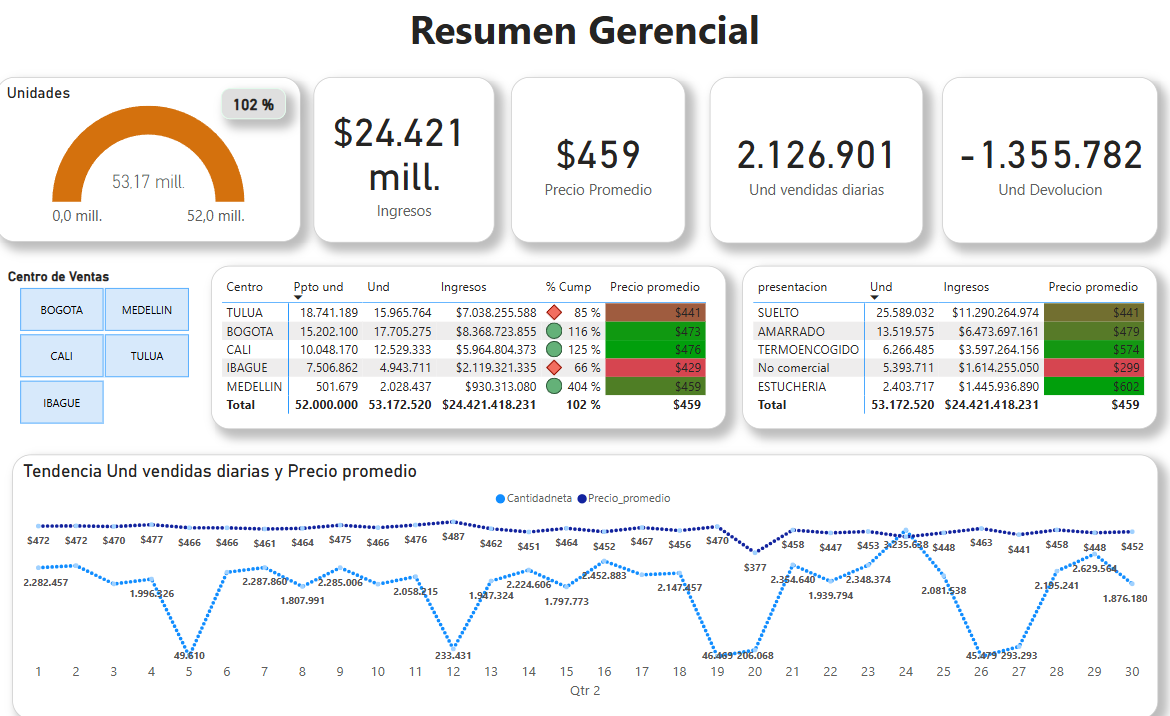

This screenshot's page, from the dashboard's own definition file:
{"tool":"powerbi","page":{"name":"Resumen","canvas":[1280,800],"ordinal":0},"visuals":[{"type":"gauge","title":"Unidades","fields":{"Y":["flash_bi_limpio (2).Cantidadneta"]},"box":[-0.4,86.9,331.1,179.2],"z":0},{"type":"card","fields":{"Values":["flash_bi_limpio (2).%cump_naciona"]},"box":[244.6,99.2,70.7,34],"z":1000},{"type":"card","fields":{"Values":["Sum(flash_bi_limpio (2).facturado_real)"]},"box":[344.9,86.9,196.9,179.8],"z":2000},{"type":"card","fields":{"Values":["flash_bi_limpio (2).Precio_promedio"]},"box":[560.1,86.9,189.5,179.8],"z":3000},{"type":"card","fields":{"Values":["flash_bi_limpio (2).und_prom_diario"]},"box":[776.1,86.9,232.1,180.9],"z":4000},{"type":"card","fields":{"Values":["flash_bi_limpio (2).Cantidadneta"]},"box":[1028,87.2,234.8,181],"z":5000},{"type":"slicer","fields":{"Values":["flash_bi_limpio (2).centro"]},"box":[-0.4,290.2,233.6,179.8],"z":6000},{"type":"pivotTable","fields":{"Values":["Sum(PPTO_DISTRITO.ppto und)","flash_bi_limpio (2).Cantidadneta","Sum(flash_bi_limpio (2).facturado_real)","flash_bi_limpio (2).%cump_naciona","flash_bi_limpio (2).Precio_promedio"],"Rows":["PPTO_DISTRITO.centro"]},"box":[233.7,292.1,559.8,178],"z":7000},{"type":"lineChart","title":"Tendencia Und vendidas diarias y Precio promedio","fields":{"Y":["flash_bi_limpio (2).Cantidadneta"],"Y2":["flash_bi_limpio (2).Precio_promedio"],"Category":["flash_bi_limpio (2).fecha_de_factura.Variación.Jerarquía de fechas.Trimestre","flash_bi_limpio (2).fecha_de_factura.Variación.Jerarquía de fechas.Día"]},"box":[17.1,497.5,1245.8,287.9],"z":8000},{"type":"pivotTable","fields":{"Values":["flash_bi_limpio (2).Cantidadneta","Sum(flash_bi_limpio (2).facturado_real)","flash_bi_limpio (2).Precio_promedio"],"Rows":["flash_bi_limpio (2).presentacion"]},"box":[811.1,292.1,451.1,178],"z":9000},{"type":"textbox","box":[197.1,0,885.9,74.7],"z":10000}]}

Visuals, with their boxes in screenshot pixels (x1, y1, x2, y2), scaled from the page's 1280x800 canvas onto the 1170x716 screenshot:
"Unidades" gauge: x1=0 y1=78 x2=302 y2=238
card - flash_bi_limpio (2).%cump_naciona: x1=224 y1=89 x2=288 y2=119
card - Sum(flash_bi_limpio (2).facturado_real): x1=315 y1=78 x2=495 y2=239
card - flash_bi_limpio (2).Precio_promedio: x1=512 y1=78 x2=685 y2=239
card - flash_bi_limpio (2).und_prom_diario: x1=709 y1=78 x2=922 y2=240
card - flash_bi_limpio (2).Cantidadneta: x1=940 y1=78 x2=1154 y2=240
slicer - flash_bi_limpio (2).centro: x1=0 y1=260 x2=213 y2=421
pivotTable - Sum(PPTO_DISTRITO.ppto und) x flash_bi_limpio (2).Cantidadneta: x1=214 y1=261 x2=725 y2=421
"Tendencia Und vendidas diarias y Precio promedio" lineChart: x1=16 y1=445 x2=1154 y2=703
pivotTable - flash_bi_limpio (2).Cantidadneta x Sum(flash_bi_limpio (2).facturado_real): x1=741 y1=261 x2=1154 y2=421
textbox: x1=180 y1=0 x2=990 y2=67
